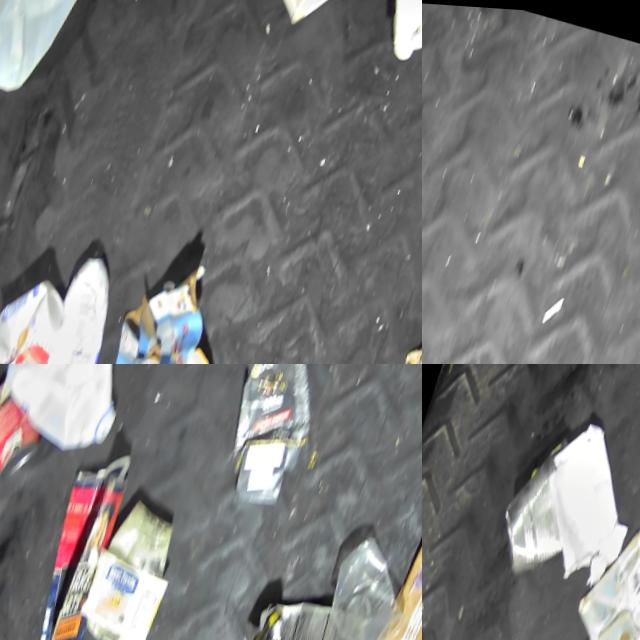can: (488, 442, 596, 590), (0, 371, 64, 484)
milk_jug: (0, 364, 165, 458), (0, 0, 105, 106), (349, 0, 422, 64)
